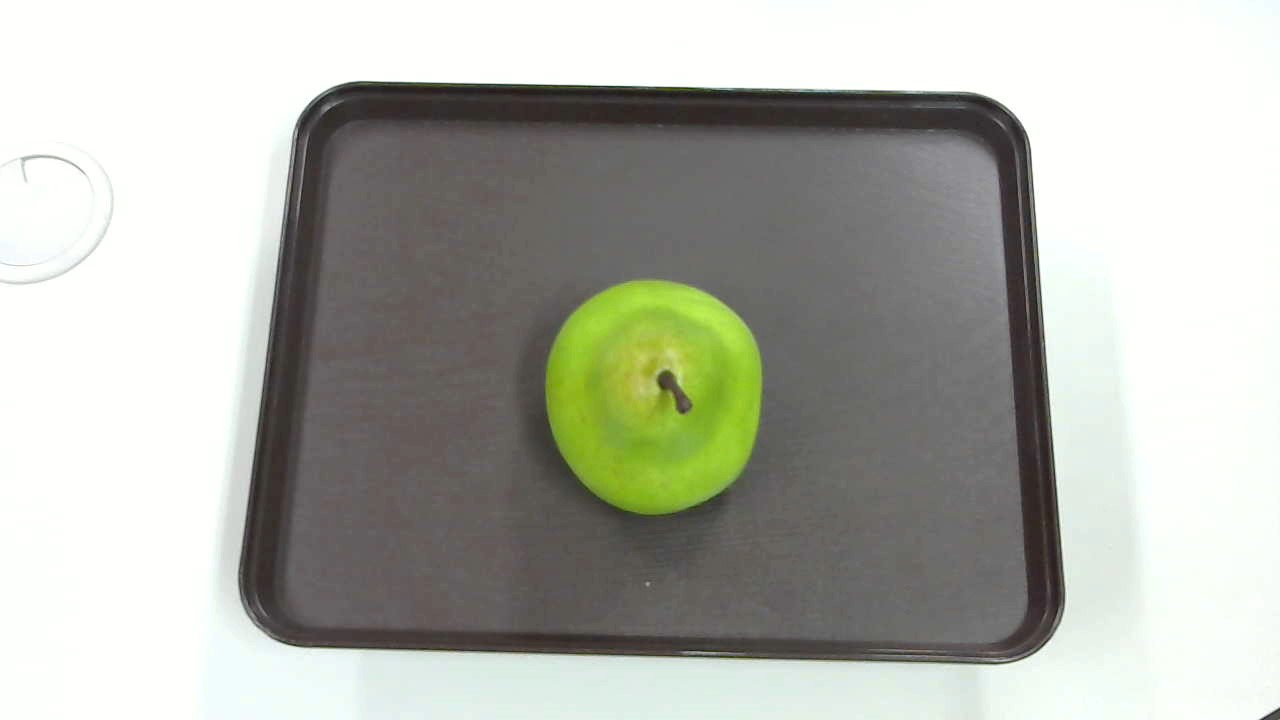green pear: (537, 278, 768, 529)
